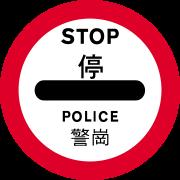Stop: (6, 6, 172, 170)
